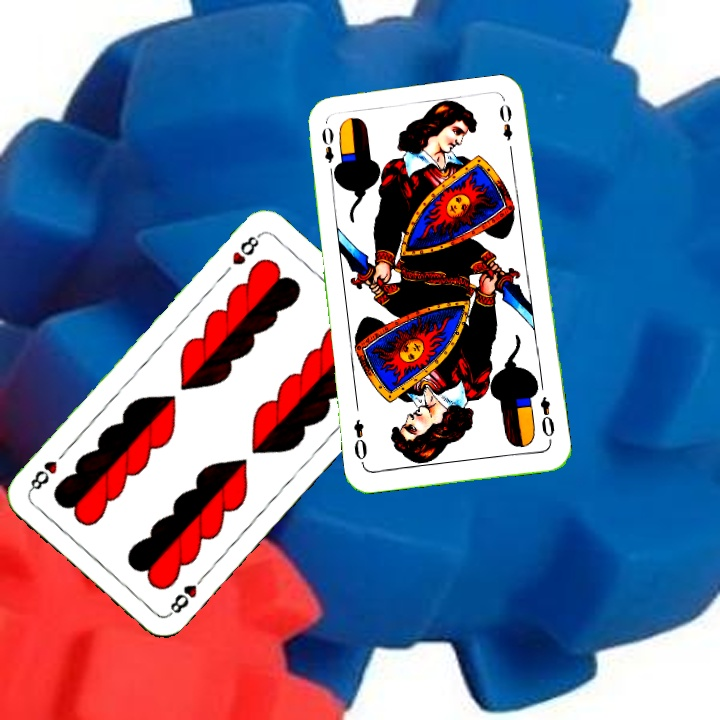EO: (317, 122, 342, 179), (535, 392, 558, 440)
H8: (164, 570, 208, 619), (228, 229, 263, 268)
